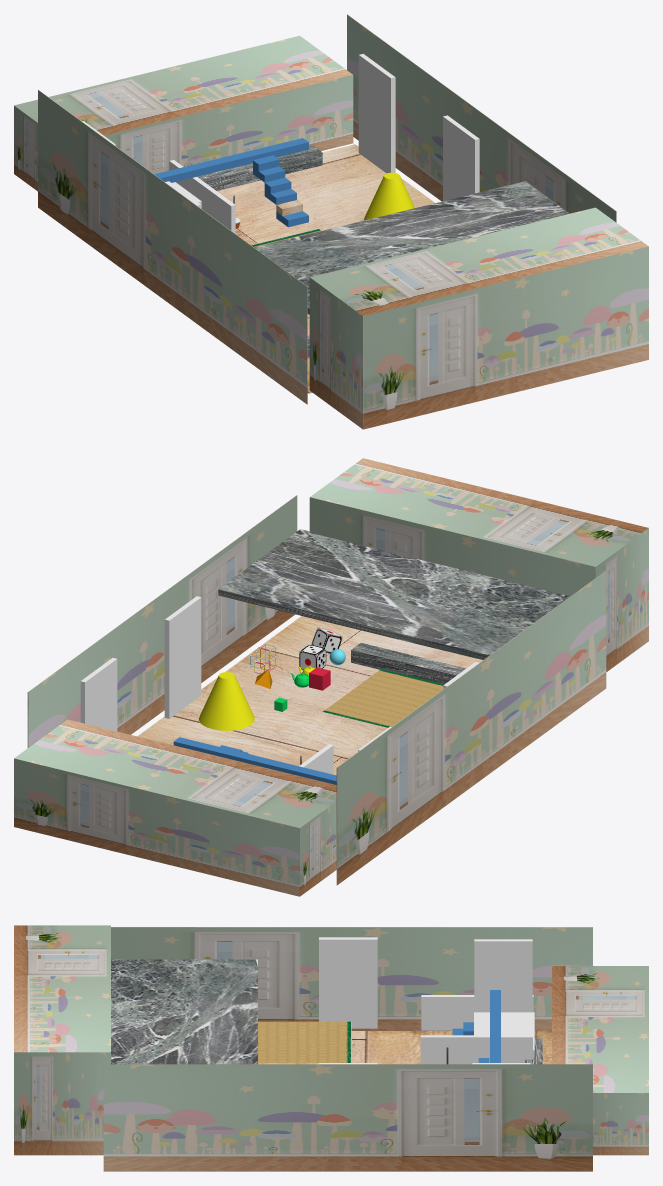
File: stage.fbx
The picture shows the model from 3 angles, top to bottom: view 1: azimuth 30°, elevation 25°; view 2: azimuth 150°, elevation 25°; view 3: azimuth 270°, elevation 25°; orthographic projection. The views are drawn at different scales.
Visible parts, largest first — view 1: Backdod001, Left, Backdod, Rigth, Bighear, yuka03, sikita (×2), Box005, Box023, Box003, Cone001; view 2: Backdod, Left, Backdod001, Bighear, Rigth, yuka03, sikita (×2), Box027, Box024, Cone001, Box005; view 3: Rigth, Left, Backdod001, Bighear, Backdod, sikita (×3), Box027, yuka03, Box003, Box001, Box005.
Boxes of the visible parts, <box> form: Backdod001: <box>309,207,648,429</box>; Left: <box>38,90,307,404</box>; Backdod: <box>14,35,353,191</box>; Rigth: <box>347,14,616,222</box>; Bighear: <box>254,181,569,314</box>; yuka03: <box>217,144,435,393</box>; sikita (×2): <box>358,53,479,201</box>; Box005: <box>154,138,308,182</box>; Box023: <box>197,145,322,190</box>; Box003: <box>169,160,235,233</box>; Cone001: <box>364,172,414,220</box>; Backdod: <box>14,719,336,896</box>; Left: <box>336,570,606,885</box>; Backdod001: <box>309,458,648,671</box>; Bighear: <box>218,529,569,659</box>; Rigth: <box>27,495,297,747</box>; yuka03: <box>137,616,482,775</box>; sikita (×2): <box>80,596,201,731</box>; Box027: <box>322,669,444,727</box>; Box024: <box>351,643,465,684</box>; Cone001: <box>199,672,254,730</box>; Box005: <box>173,737,336,784</box>; Rigth: <box>103,1064,592,1171</box>; Left: <box>111,927,592,1030</box>; Backdod001: <box>14,925,110,1155</box>; Bighear: <box>111,959,257,1064</box>; Backdod: <box>552,966,648,1155</box>; sikita (×3): <box>319,937,533,1030</box>; Box027: <box>258,1021,351,1063</box>; yuka03: <box>258,1031,551,1064</box>; Box003: <box>420,1035,532,1064</box>; Box001: <box>474,1012,534,1057</box>; Box005: <box>490,990,500,1062</box>.
Bounding box in the file's own units: 7.98e+07 × 1.56e+08 × 3.02e+07.
